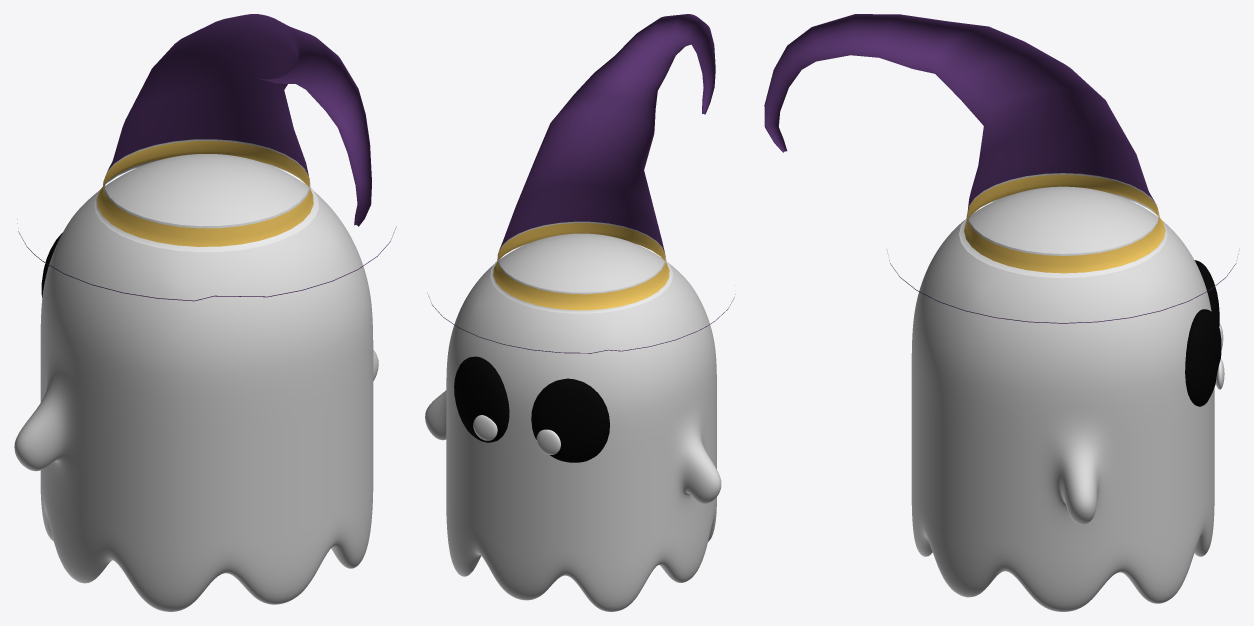
The model's file is ghost3.glb.
3 renders of one model, left to right at view 1: azimuth 30°, elevation 25°; view 2: azimuth 150°, elevation 25°; view 3: azimuth 270°, elevation 25°, orthographic. The views are drawn at different scales.
Visible parts, largest first — view 1: Cube__0.001, Circle_Material.001_0.001, Circle_Material.002_0.001, Circle_Material.003_0.001; view 2: Cube__0.001, Circle_Material.001_0.001, Circle_Material.002_0.001, Sphere_Material.004_0.001, Sphere.001_Material.005_0.001, Circle_Material.003_0.001, Sphere.002_Material.006_0.001, Sphere.003_Material.007_0.001; view 3: Cube__0.001, Circle_Material.001_0.001, Circle_Material.002_0.001, Sphere.001_Material.005_0.001, Circle_Material.003_0.001.
Boxes of the visible parts, x1,y1,x2,y2 form: Cube__0.001: [14, 154, 378, 611]; Circle_Material.001_0.001: [17, 14, 396, 301]; Circle_Material.002_0.001: [97, 141, 313, 246]; Circle_Material.003_0.001: [94, 139, 318, 252]; Cube__0.001: [425, 233, 721, 611]; Circle_Material.001_0.001: [427, 14, 735, 353]; Circle_Material.002_0.001: [493, 223, 669, 310]; Sphere_Material.004_0.001: [531, 378, 609, 462]; Sphere.001_Material.005_0.001: [454, 356, 509, 442]; Circle_Material.003_0.001: [490, 221, 672, 313]; Sphere.002_Material.006_0.001: [536, 429, 560, 454]; Sphere.003_Material.007_0.001: [473, 415, 497, 440]; Cube__0.001: [911, 186, 1214, 611]; Circle_Material.001_0.001: [764, 14, 1239, 323]; Circle_Material.002_0.001: [964, 174, 1165, 273]; Sphere.001_Material.005_0.001: [1185, 309, 1221, 406]; Circle_Material.003_0.001: [959, 173, 1167, 278].
Size of the model in its own units: 2.13 by 3.31 by 2.62.
